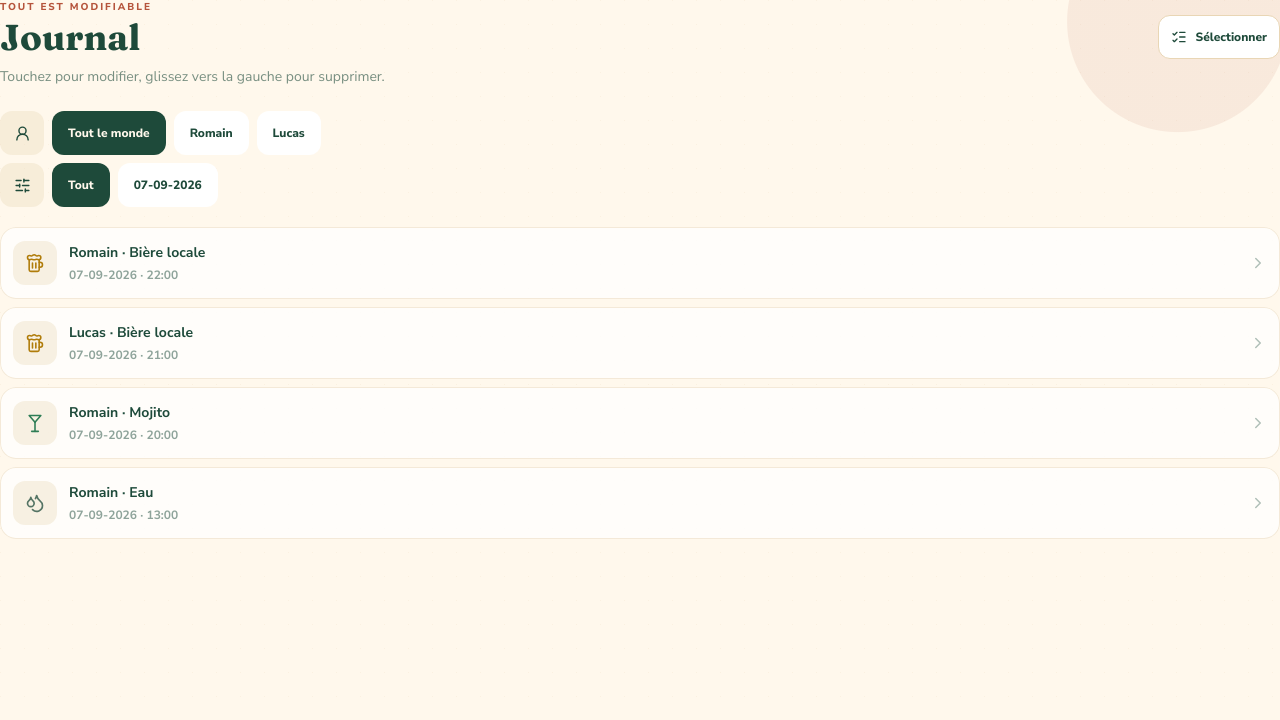
Test case: sélection multiple du Journal › ne supprime rien si la confirmation est refusée
Click the button "Sélectionner" at (1219, 37), box [1158,15,1279,59]
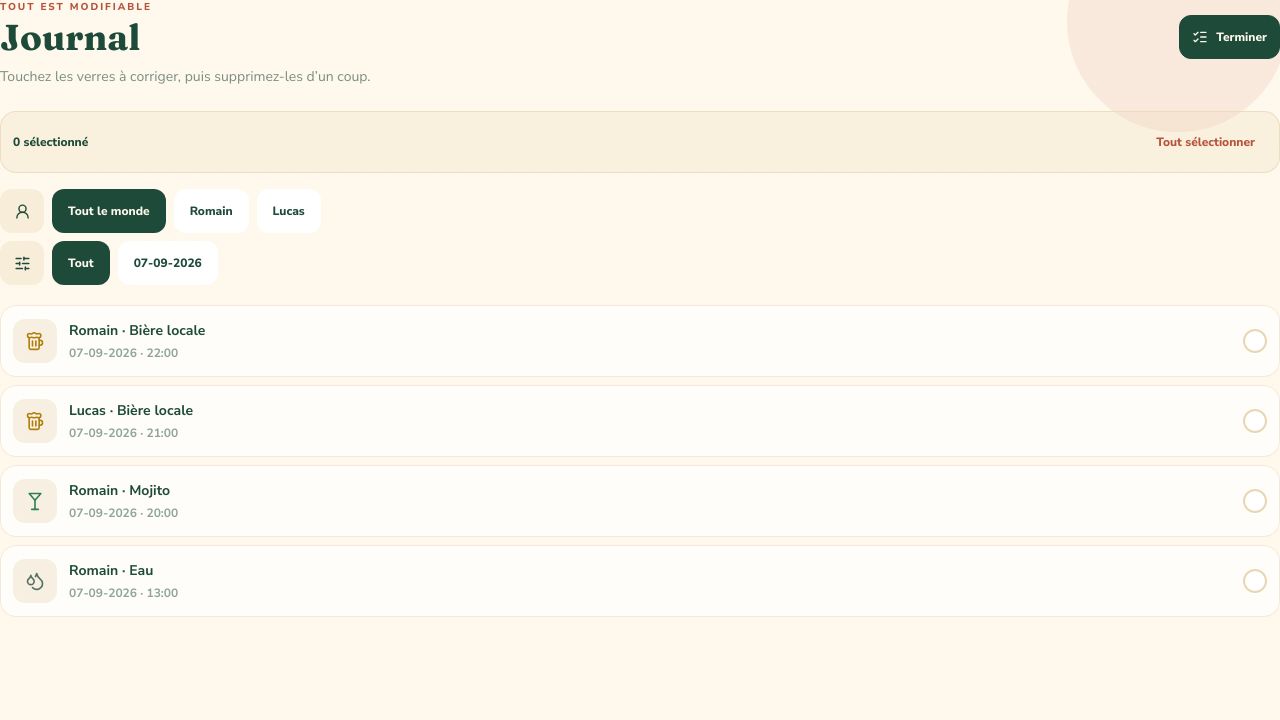
Click the checkbox "Romain · Mojito" at (35, 501), box [0,465,1279,537]
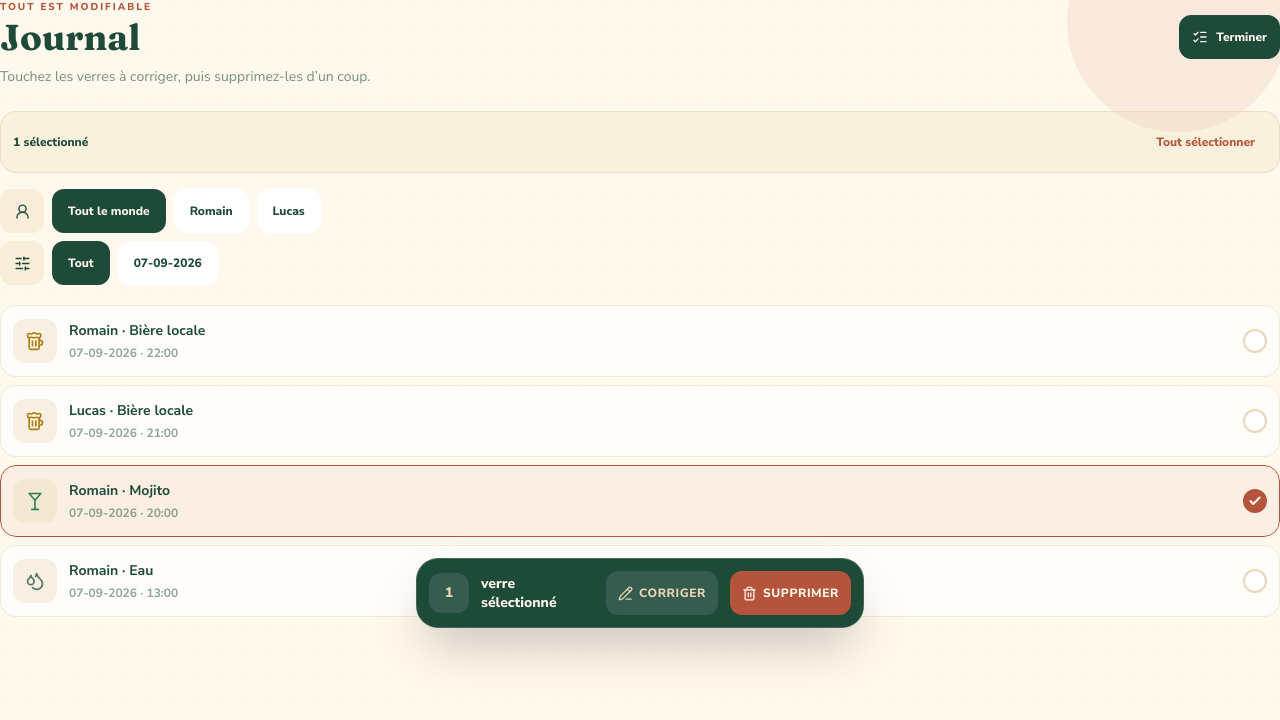
Click the button "Supprimer" at (790, 593), box [730,571,851,615]
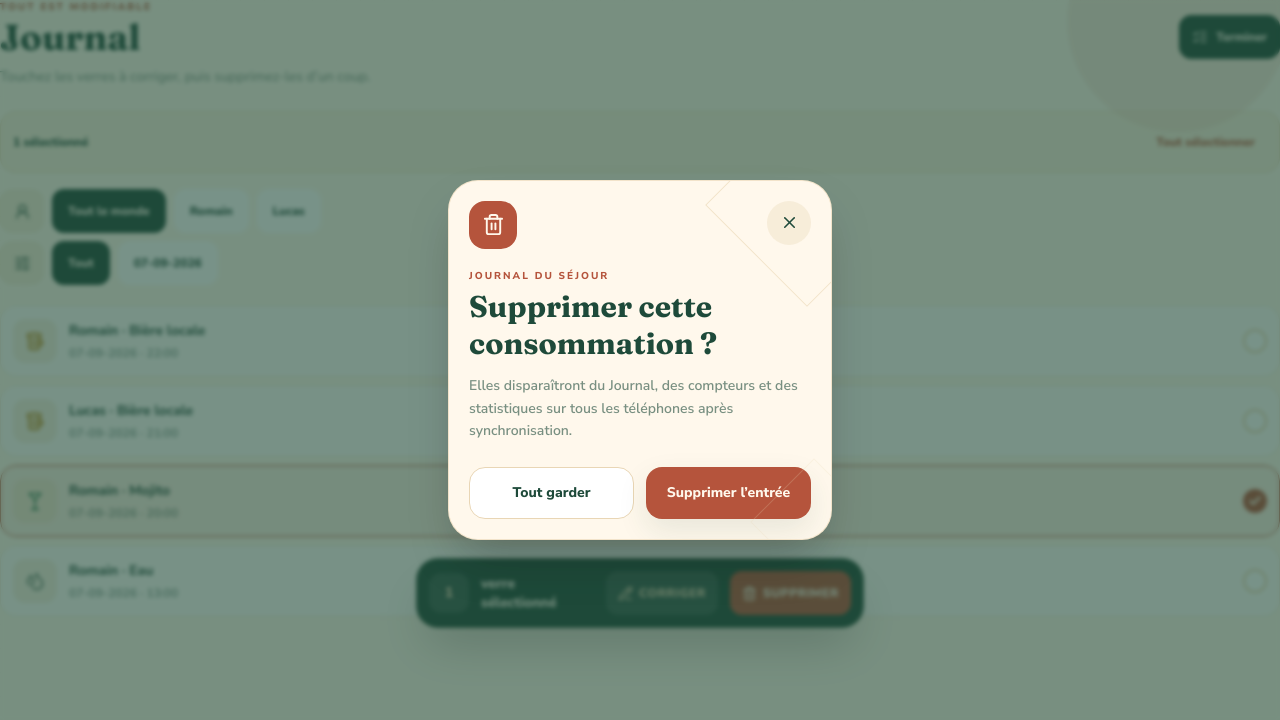
Click the button "Tout garder" at (552, 493), box [469,467,634,519]
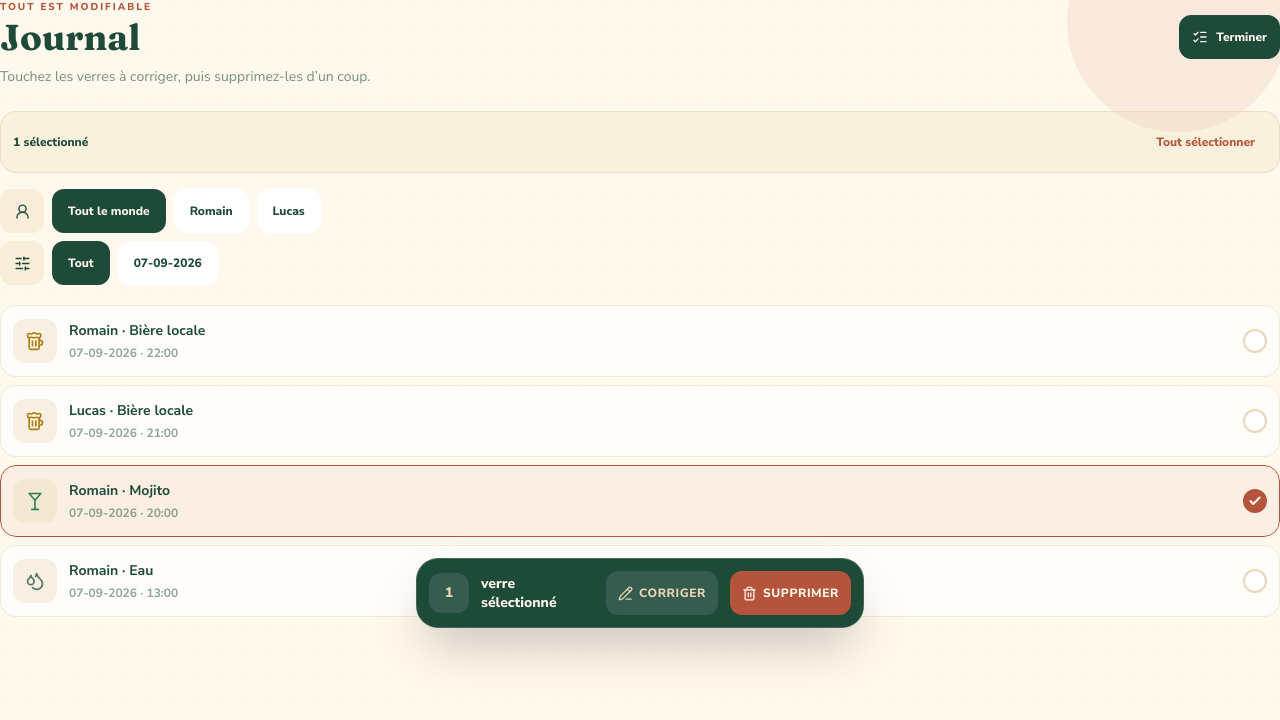
Now the dialog is gone
